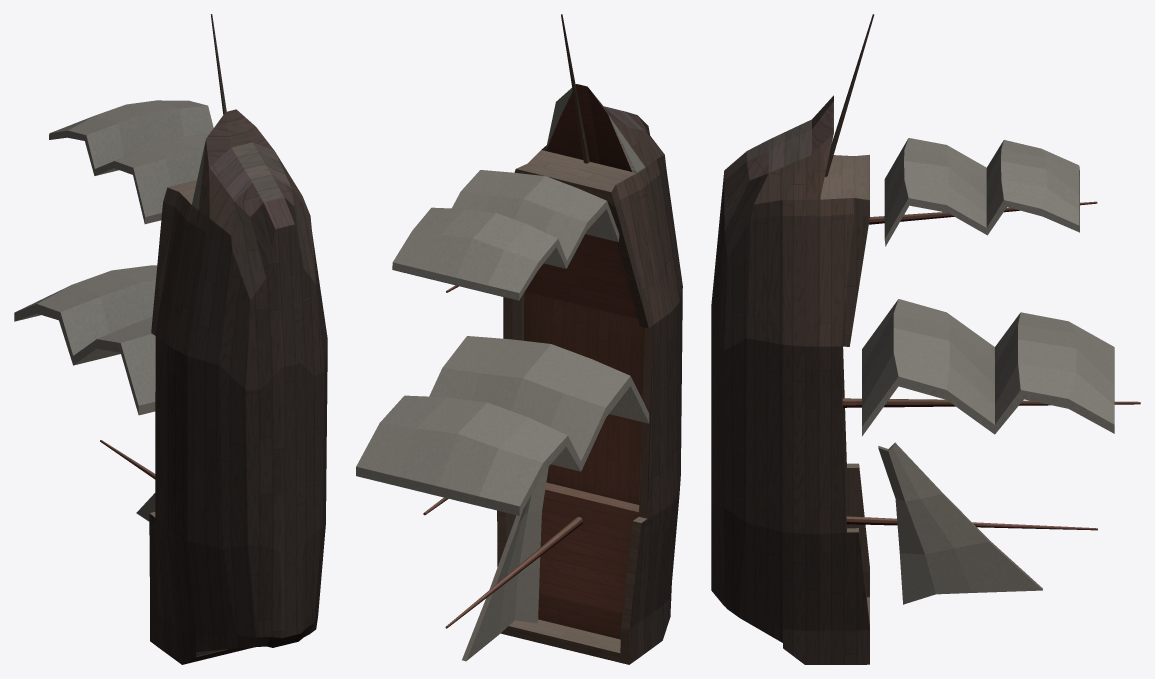
Rendered from frigate_enemy.fbx.
The picture shows the model from 3 angles, left to right: view 1: azimuth 30°, elevation 25°; view 2: azimuth 150°, elevation 25°; view 3: azimuth 270°, elevation 25°; orthographic projection. The views are drawn at different scales.
Visible parts, largest first — view 1: Cube.001; view 2: Cube.001; view 3: Cube.001.
Boxes of the visible parts, <box> form: Cube.001: <box>14,14,327,664</box>; Cube.001: <box>356,14,682,664</box>; Cube.001: <box>711,14,1140,664</box>.
Size of the model in its own units: 343 by 1274 by 800.
1 material, 1 textured.
